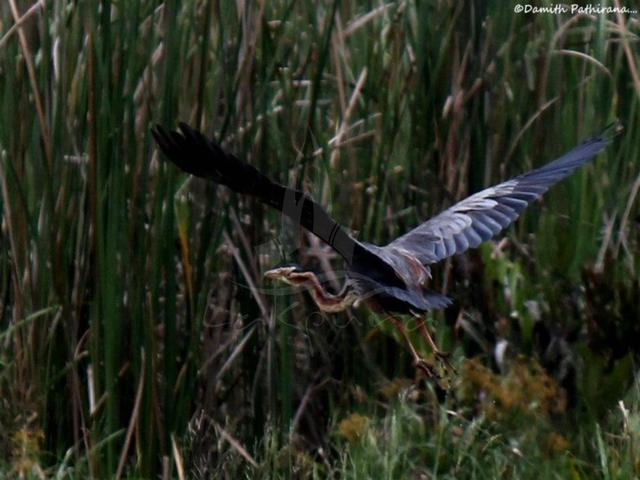bird: (111, 104, 621, 380)
